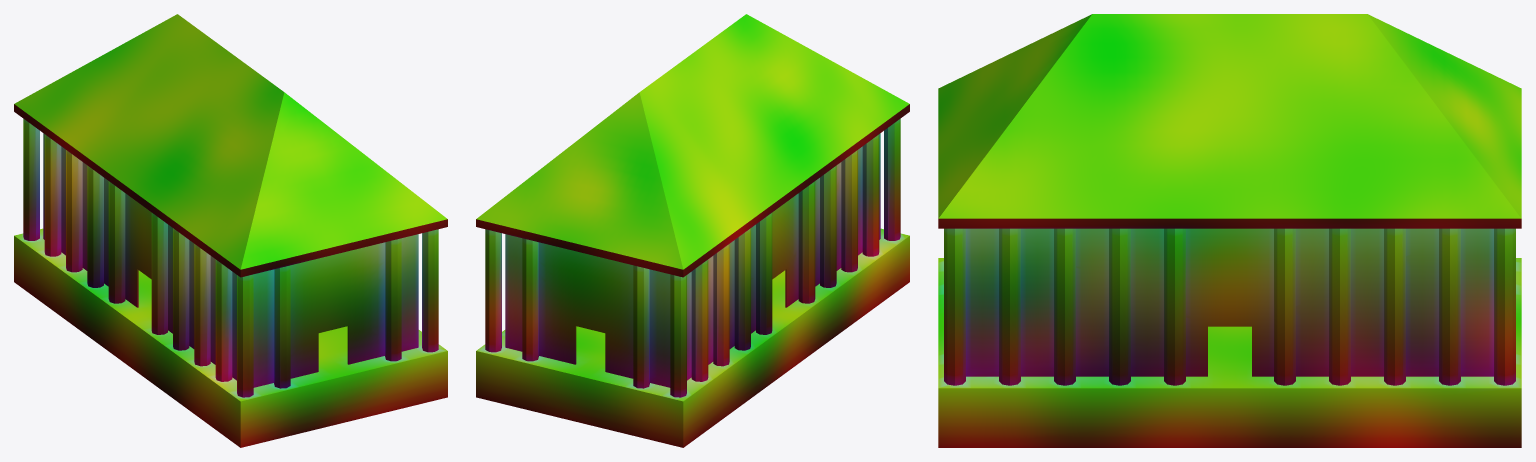
File: MS_BuildingLarge_01.fbx
3 views of the same model, side by side, from view 1: azimuth 30°, elevation 25°; view 2: azimuth 150°, elevation 25°; view 3: azimuth 270°, elevation 25° (orthographic). The views are drawn at different scales.
Visible parts, largest first — view 1: MS_BuildingLarge_01; view 2: MS_BuildingLarge_01; view 3: MS_BuildingLarge_01.
Boxes of the visible parts, x1,y1,x2,y2 form: MS_BuildingLarge_01: (14,14,447,447); MS_BuildingLarge_01: (476,14,909,447); MS_BuildingLarge_01: (938,14,1521,447).
Size of the model in its own units: 2800 by 3700 by 5300.
